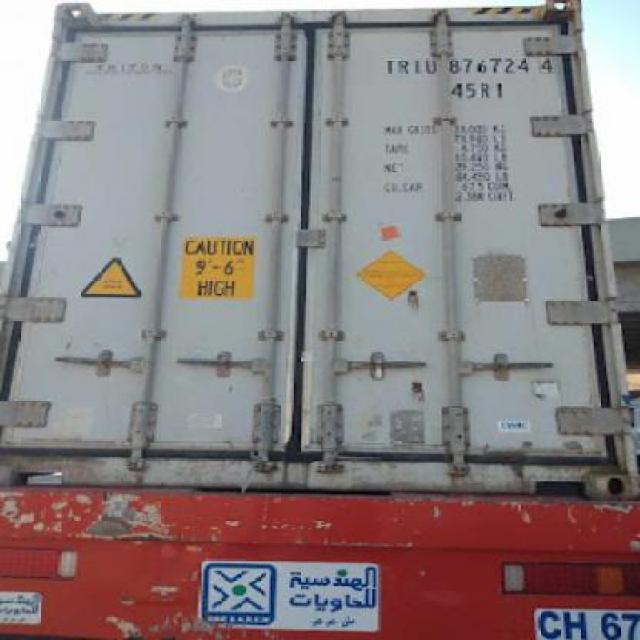ISO: (448, 79, 504, 100)
container_number: (391, 54, 555, 77)
